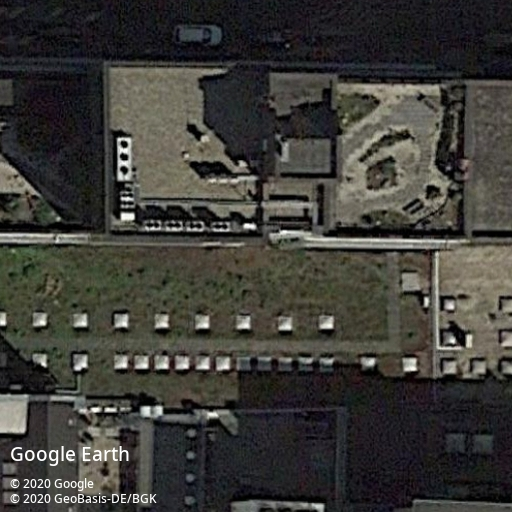Chiller: (116, 136, 133, 182), (118, 188, 136, 212), (143, 218, 163, 232), (164, 218, 184, 232), (185, 218, 205, 232), (211, 219, 231, 233)
